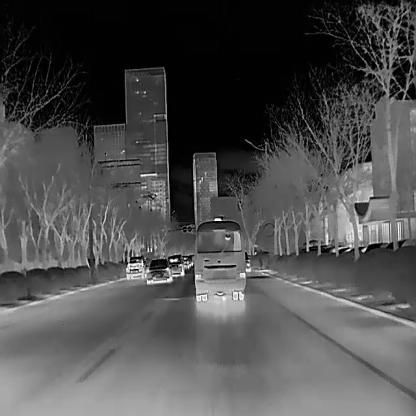car: (192, 216, 246, 302), (144, 258, 170, 282), (126, 256, 145, 275), (166, 254, 183, 275)
